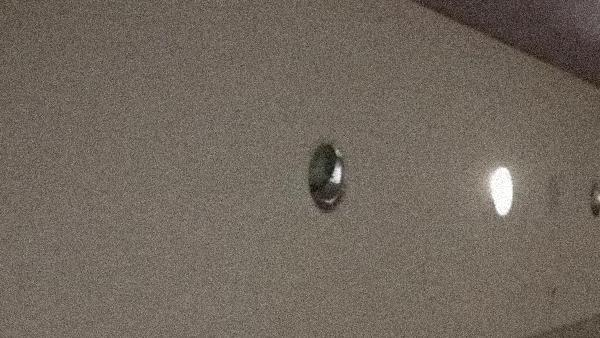light_off: (274, 107, 365, 236), (580, 173, 600, 245)
